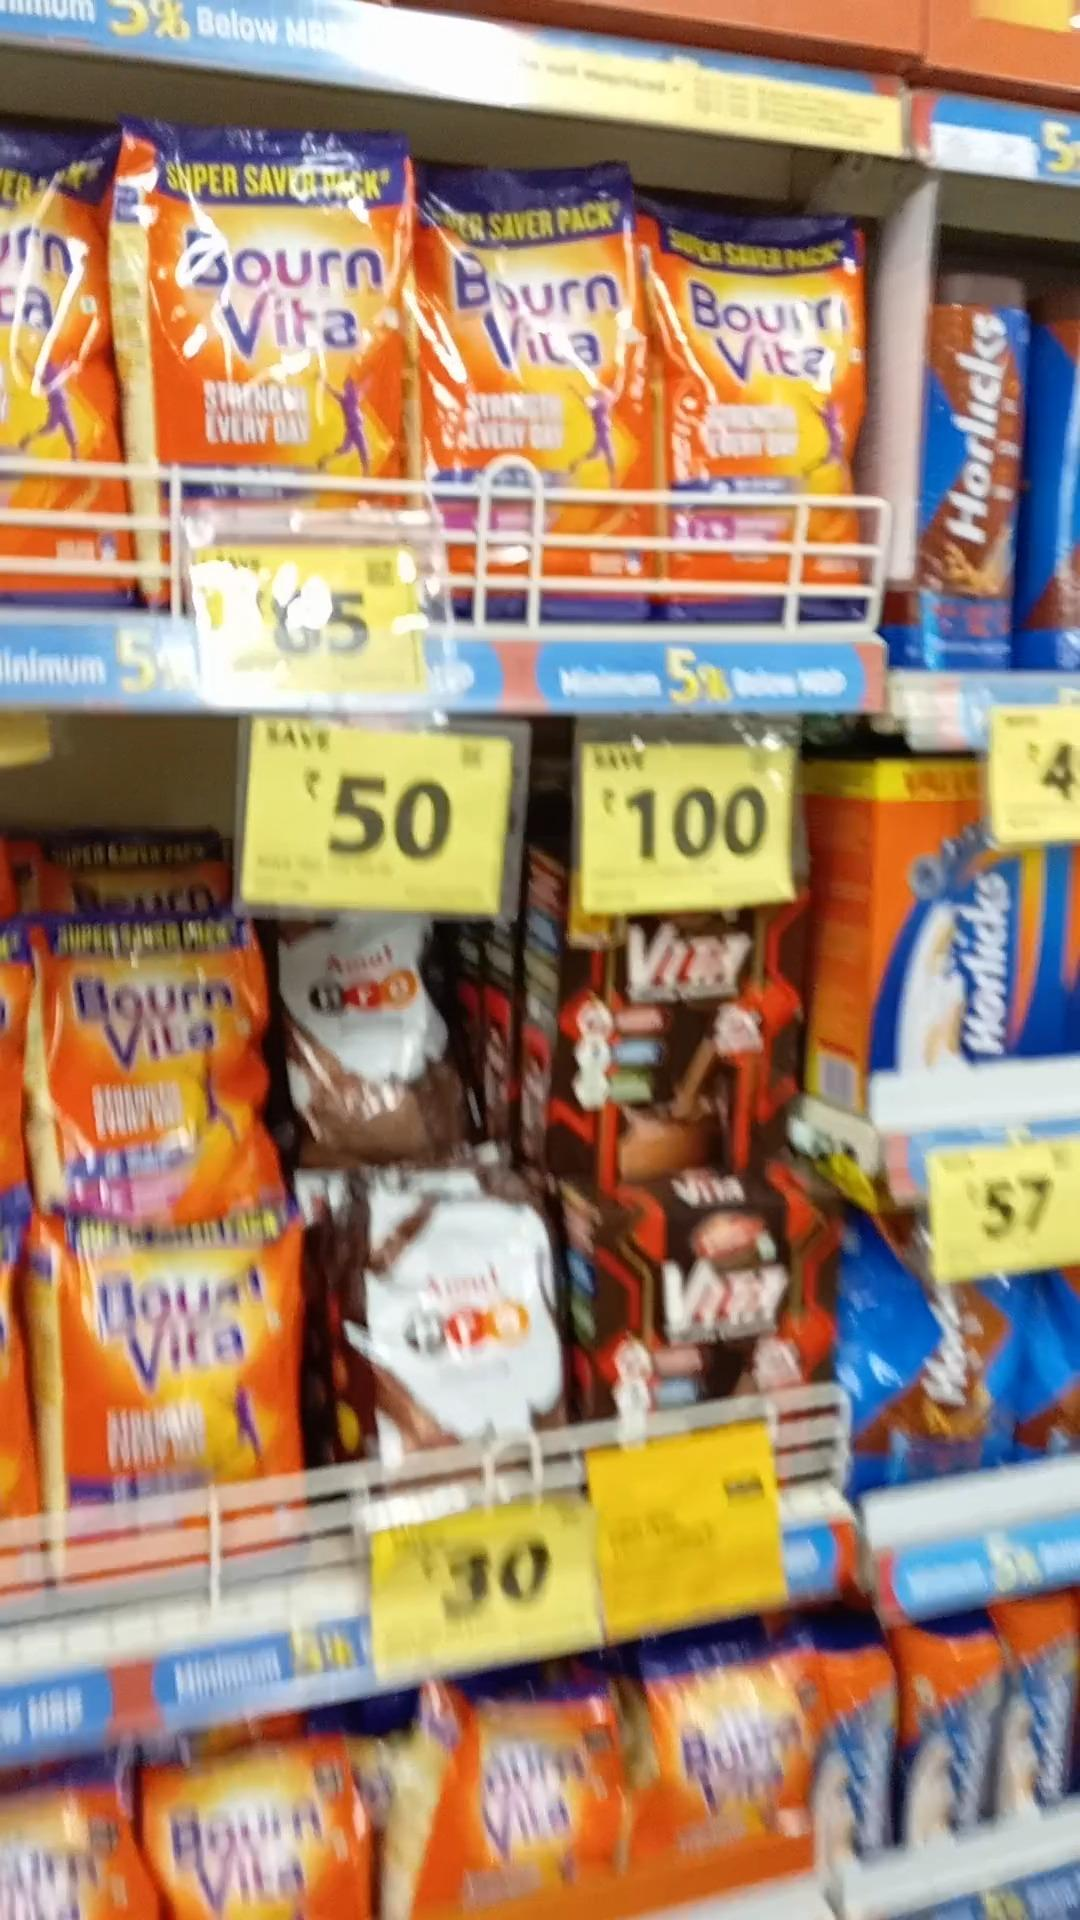BOURN_VITA_1_KG_POUCH: (124, 124, 402, 521), (431, 182, 641, 621), (657, 198, 865, 630), (53, 1217, 302, 1540), (25, 910, 281, 1201)
